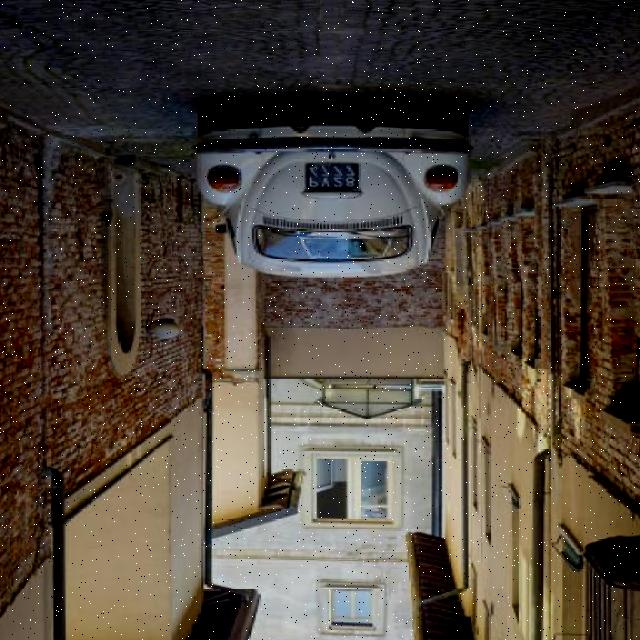car: (187, 117, 479, 292)
